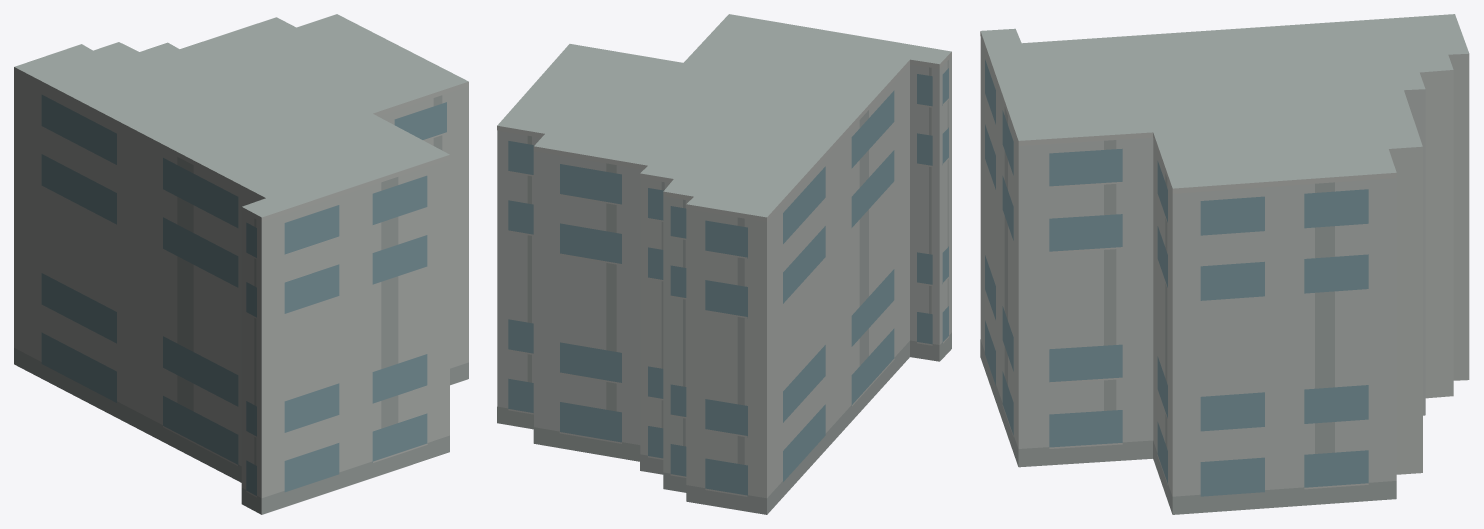
Rendered from survey-upis-32929872.glb.
3 views of the same model, side by side, from view 1: azimuth 30°, elevation 25°; view 2: azimuth 150°, elevation 25°; view 3: azimuth 270°, elevation 25° (orthographic). The views are drawn at different scales.
Parts seen in each view (by area): view 1: survey-upis-32929872.tmp; view 2: survey-upis-32929872.tmp; view 3: survey-upis-32929872.tmp.
Part boxes in pixels (box(x1,y1,x2,y2)): survey-upis-32929872.tmp: box(14, 14, 468, 514); survey-upis-32929872.tmp: box(497, 14, 951, 514); survey-upis-32929872.tmp: box(980, 14, 1469, 514).
Bounding box in the file's own units: 17.33 × 15.1 × 20.52.
